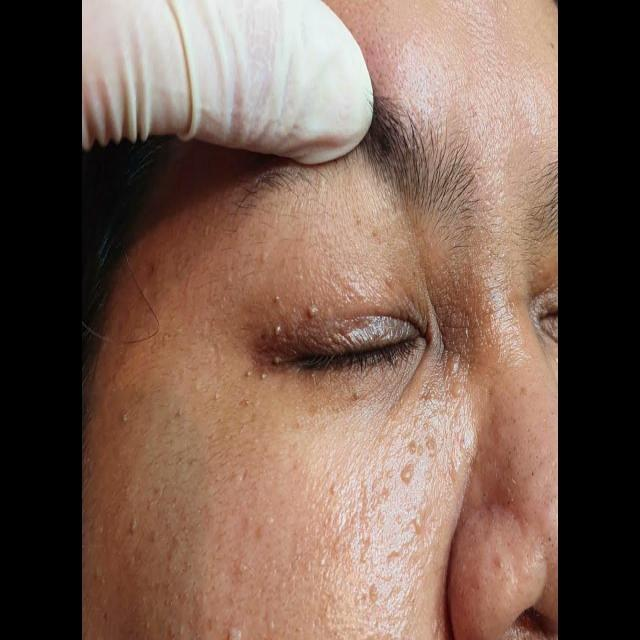7: (122, 500, 142, 550), (266, 308, 286, 344), (212, 388, 224, 415), (244, 366, 252, 388)
blackheads: (442, 306, 472, 418)
dark spot: (506, 404, 522, 448), (503, 488, 518, 516), (541, 527, 553, 561), (496, 550, 508, 582), (526, 466, 539, 492)
